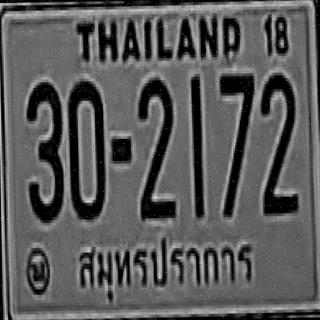N00: (67, 80, 105, 218)
N01: (189, 74, 204, 217)
N02: (260, 72, 297, 213), (137, 77, 174, 218)
N03: (26, 80, 64, 222)
N07: (218, 70, 254, 214)
P57: (75, 230, 257, 303)
